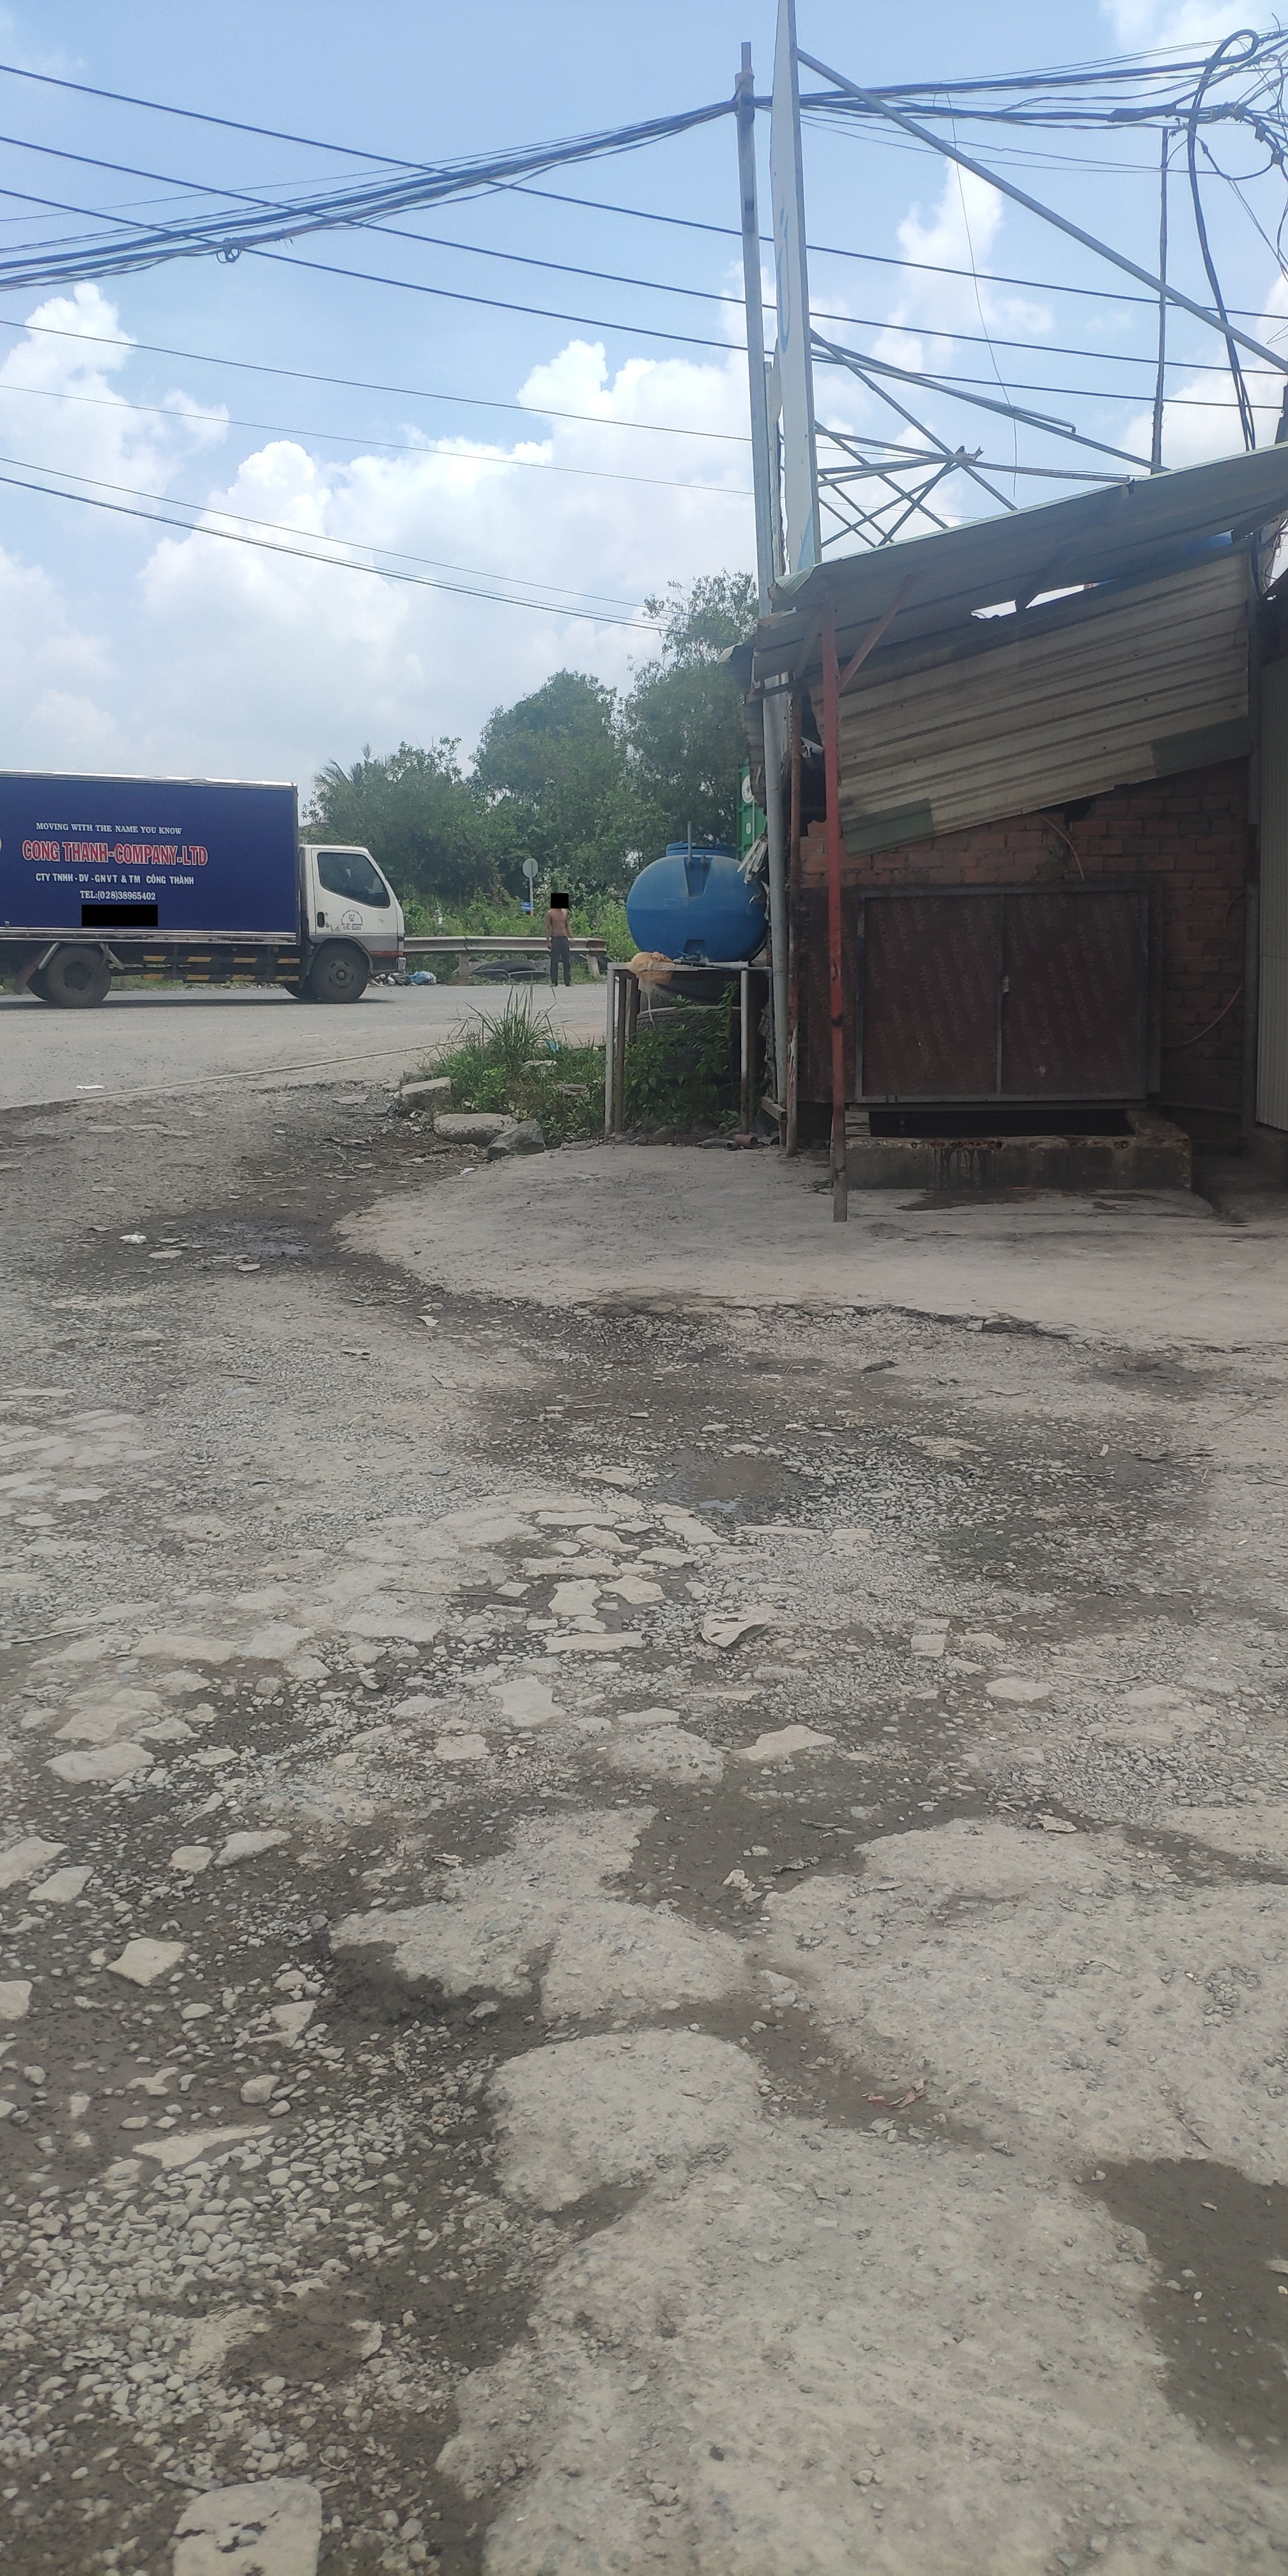hole: (20, 1902, 521, 2551), (646, 1436, 789, 1536), (215, 1214, 314, 1273)
